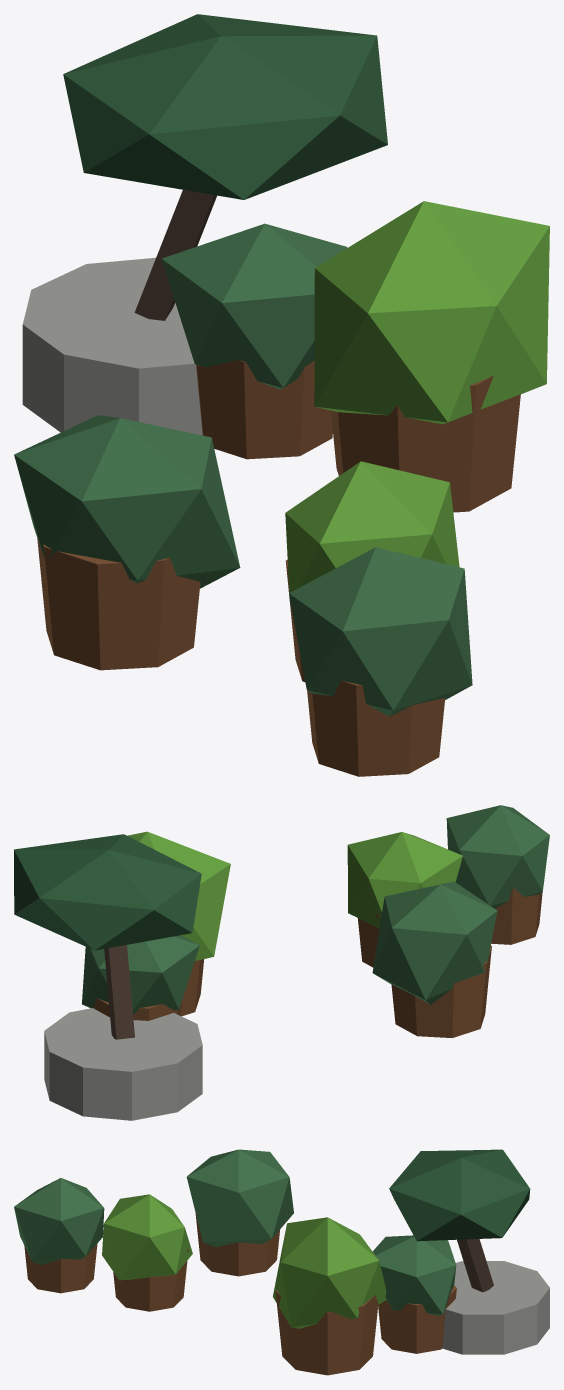
Rendered from krukor.glb.
3 views of the same model, one above another, from view 1: azimuth 30°, elevation 25°; view 2: azimuth 150°, elevation 25°; view 3: azimuth 270°, elevation 25° (orthographic). The views are drawn at different scales.
Parts seen in each view (by area): view 1: krukor; view 2: krukor; view 3: krukor.
Part boxes in pixels (bbox=[...]): krukor: bbox=[14, 14, 549, 776]; krukor: bbox=[14, 805, 549, 1120]; krukor: bbox=[14, 1149, 549, 1375].
Bounding box in the file's own units: 1.55 × 0.9002 × 2.41.
